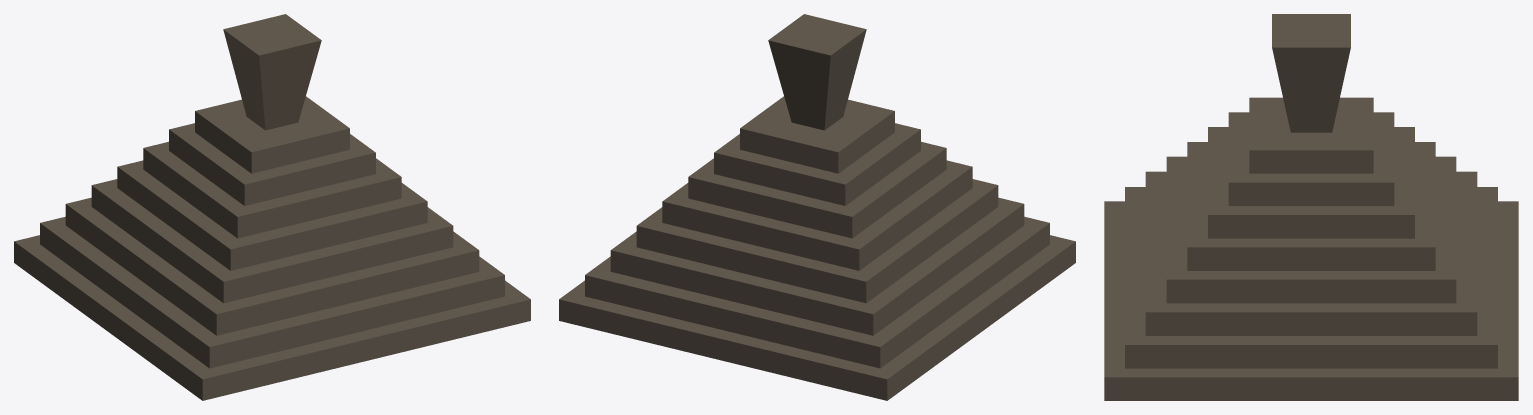
File: b_chichenitza_templelevel_unk.fbx
3 views of the same model, side by side, from view 1: azimuth 30°, elevation 25°; view 2: azimuth 150°, elevation 25°; view 3: azimuth 270°, elevation 25° (orthographic). The views are drawn at different scales.
Parts seen in each view (by area): view 1: polySurface15; view 2: polySurface15; view 3: polySurface15.
Part boxes in pixels (box(x1,y1,x2,y2)): polySurface15: box(14, 14, 530, 400); polySurface15: box(559, 14, 1075, 400); polySurface15: box(1104, 14, 1518, 400).
Size of the model in its own units: 15.97 by 11.95 by 15.89.
Materials: 1 (1 with a texture image).
